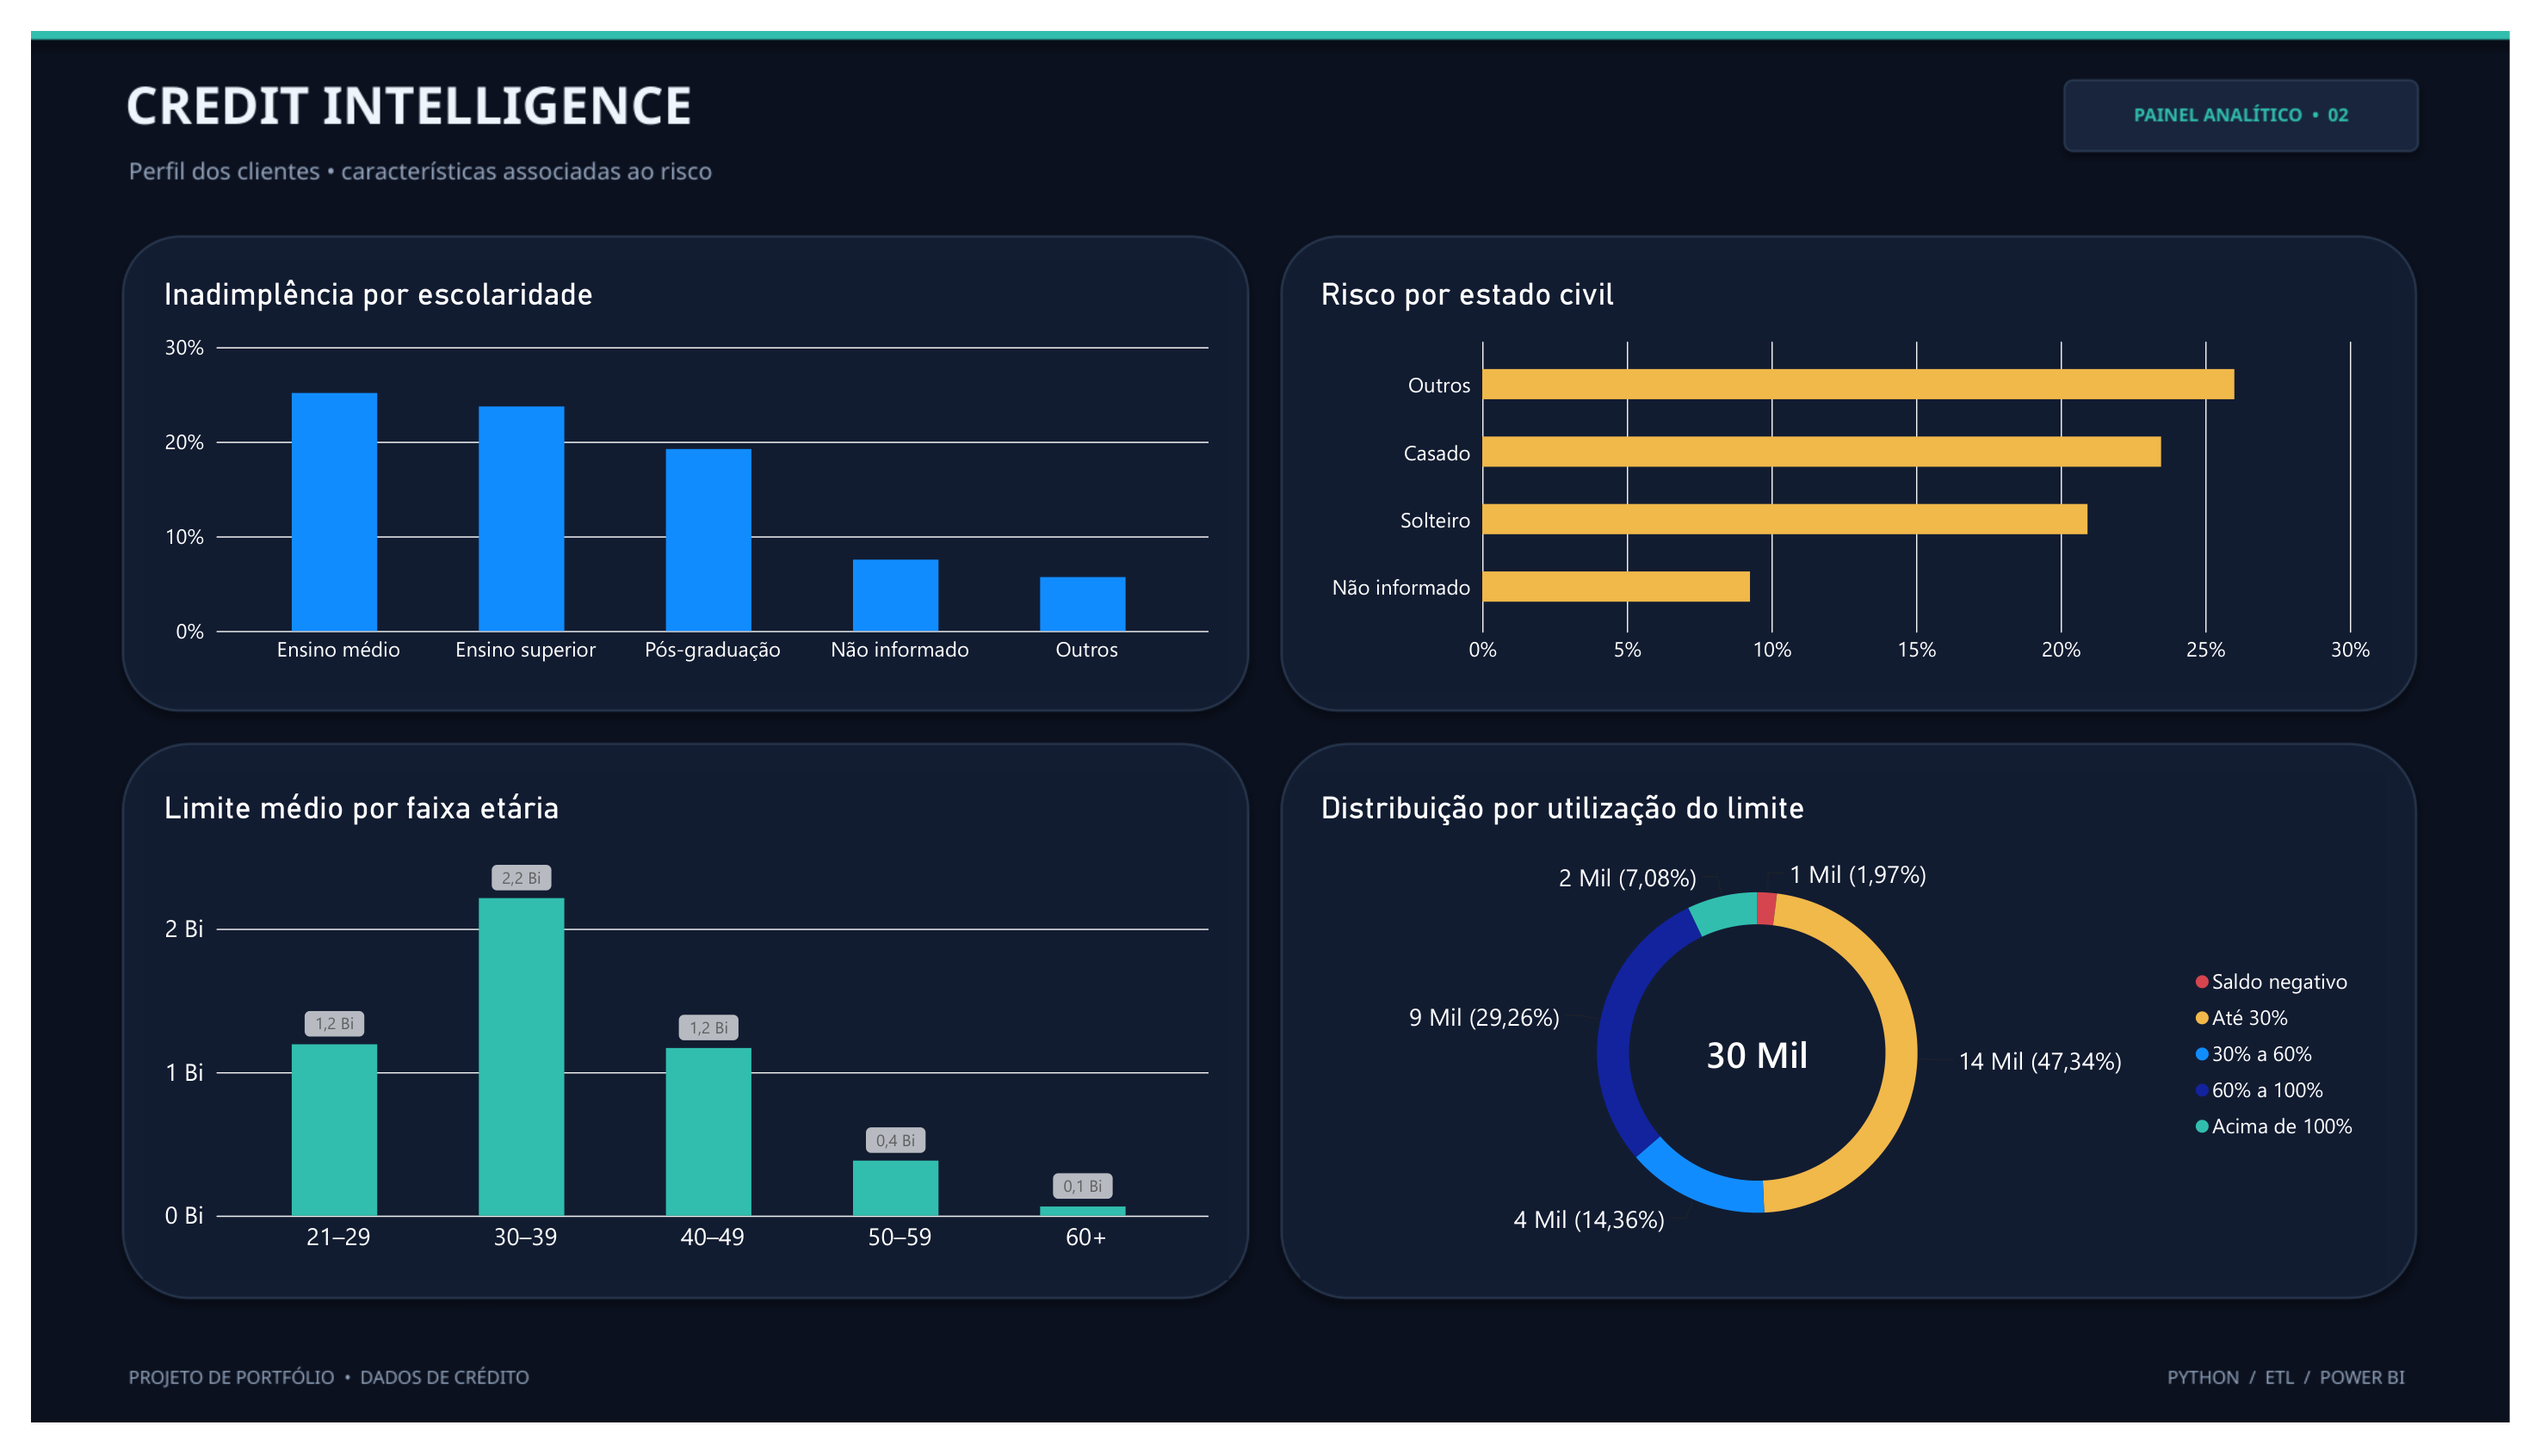

Layout of this report page (visuals, bound fields, positions):
{"tool":"powerbi","page":{"name":"Análise de Risco","canvas":[1920,1080],"ordinal":1},"visuals":[{"type":"lineClusteredColumnComboChart","title":"Inadimplência por escolaridade","fields":{"Category":["default_of_credit_card_clients.escolaridade_tratada"],"Y":["default_of_credit_card_clients.Taxa Inadimplência"]},"box":[86.9,175.5,841.5,336.6],"z":0},{"type":"clusteredBarChart","title":"Risco por estado civil","fields":{"Category":["default_of_credit_card_clients.estado_civil_tratado"],"Y":["default_of_credit_card_clients.Taxa Inadimplência"]},"box":[982.6,175.5,845.1,336.6],"z":1000},{"type":"lineClusteredColumnComboChart","title":"Limite médio por faixa etária","fields":{"Category":["default_of_credit_card_clients.faixa_etaria"],"Y":["Sum(default_of_credit_card_clients.limit_bal)"]},"box":[86.9,573.7,841.5,394.5],"z":2000},{"type":"donutChart","title":"Distribuição por utilização do limite","fields":{"Category":["default_of_credit_card_clients.Faixa_Utilizacao"],"Y":["default_of_credit_card_clients.Total Clientes"]},"box":[982.6,573.7,841.5,394.5],"z":3000}]}

Visuals, with their boxes in screenshot pixels (x1, y1, x2, y2), scaled from the page's 1920x1080 canvas onto the 2541x1456 screenshot:
"Inadimplência por escolaridade" lineClusteredColumnComboChart: (115,237,1228,690)
"Risco por estado civil" clusteredBarChart: (1301,237,2419,690)
"Limite médio por faixa etária" lineClusteredColumnComboChart: (115,774,1228,1305)
"Distribuição por utilização do limite" donutChart: (1301,774,2414,1305)
